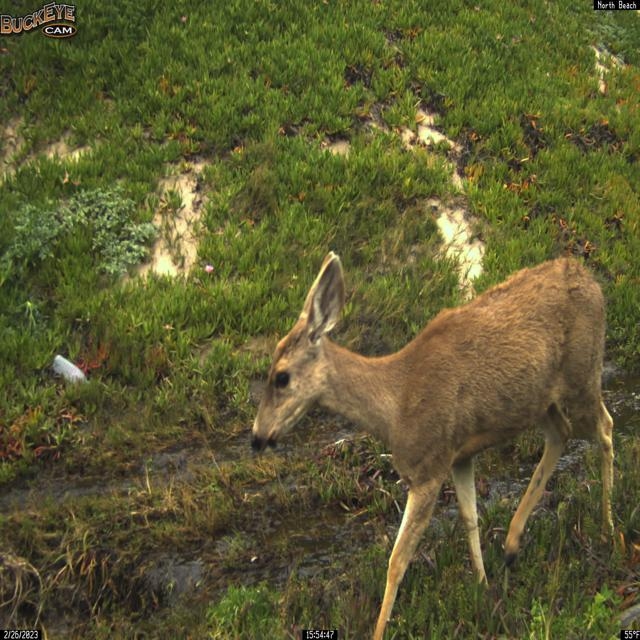deer: (248, 250, 616, 640)
